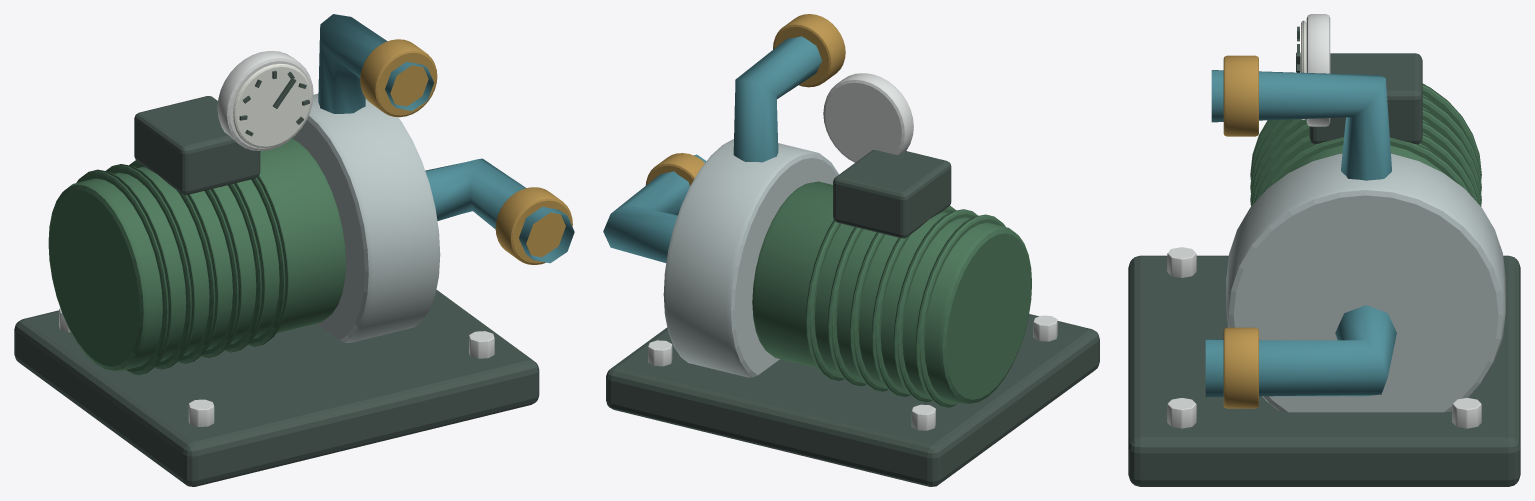
File: pump.glb
3 views of the same model, side by side, from view 1: azimuth 30°, elevation 25°; view 2: azimuth 150°, elevation 25°; view 3: azimuth 270°, elevation 25° (orthographic). The views are drawn at different scales.
Parts seen in each view (by area): view 1: Pump anchor base, Electric pump motor, Centrifugal pump casing, Motor electrical box, Pump inlet, Pump discharge, Pressure gauge dial, Brass pipe fitting.001, Brass pipe fitting, Motor cooling fin, Motor cooling fin.001, Pressure gauge housing (+6 smaller); view 2: Electric pump motor, Pump anchor base, Centrifugal pump casing, Motor electrical box, Pump discharge, Pressure gauge housing, Pump inlet, Brass pipe fitting.001, Motor cooling fin, Motor cooling fin.001, Motor cooling fin.002, Motor cooling fin.005 (+6 smaller); view 3: Centrifugal pump casing, Pump anchor base, Pump inlet, Pump discharge, Motor electrical box, Brass pipe fitting, Brass pipe fitting.001, Motor cooling fin.005, Pressure gauge housing, Motor cooling fin.003, Motor cooling fin.002, Motor cooling fin.004 (+6 smaller).
Part boxes in pixels (x1,y1,x2,y2): Pump anchor base: (14, 289, 539, 486); Electric pump motor: (48, 138, 345, 371); Centrifugal pump casing: (292, 93, 440, 342); Motor electrical box: (134, 96, 260, 194); Pump inlet: (425, 158, 574, 263); Pump discharge: (318, 14, 433, 113); Pressure gauge dial: (233, 63, 311, 147); Brass pipe fitting.001: (360, 39, 437, 117); Brass pipe fitting: (495, 187, 572, 264); Motor cooling fin: (76, 169, 172, 375); Motor cooling fin.001: (106, 164, 195, 369); Pressure gauge housing: (217, 51, 313, 150); Electric pump motor: (752, 181, 1031, 404); Pump anchor base: (606, 314, 1099, 486); Centrifugal pump casing: (663, 139, 838, 377); Motor electrical box: (833, 150, 951, 238); Pump discharge: (733, 36, 822, 162); Pressure gauge housing: (823, 73, 913, 162); Pump inlet: (603, 154, 706, 262); Brass pipe fitting.001: (773, 14, 845, 87); Motor cooling fin: (915, 214, 1005, 407); Motor cooling fin.001: (893, 209, 978, 402); Motor cooling fin.002: (871, 206, 956, 396); Motor cooling fin.005: (806, 220, 843, 380); Centrifugal pump casing: (1226, 153, 1505, 412); Pump anchor base: (1128, 255, 1520, 486); Pump inlet: (1205, 305, 1396, 397); Pump discharge: (1211, 70, 1391, 180); Motor electrical box: (1309, 53, 1422, 144); Brass pipe fitting: (1223, 327, 1258, 408); Brass pipe fitting.001: (1223, 55, 1258, 136); Motor cooling fin.005: (1259, 137, 1472, 197); Pressure gauge housing: (1306, 14, 1330, 126); Motor cooling fin.003: (1251, 122, 1481, 206); Motor cooling fin.002: (1250, 109, 1481, 205); Motor cooling fin.004: (1252, 134, 1479, 204).
Size of the model in its own units: 0.918 by 0.708 by 0.66.
